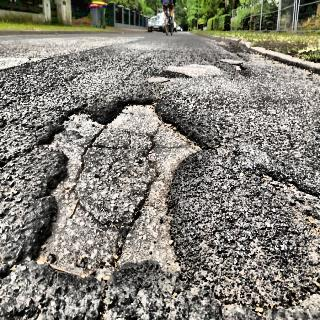crack: (256, 162, 320, 230)
pothole: (34, 87, 205, 320)
